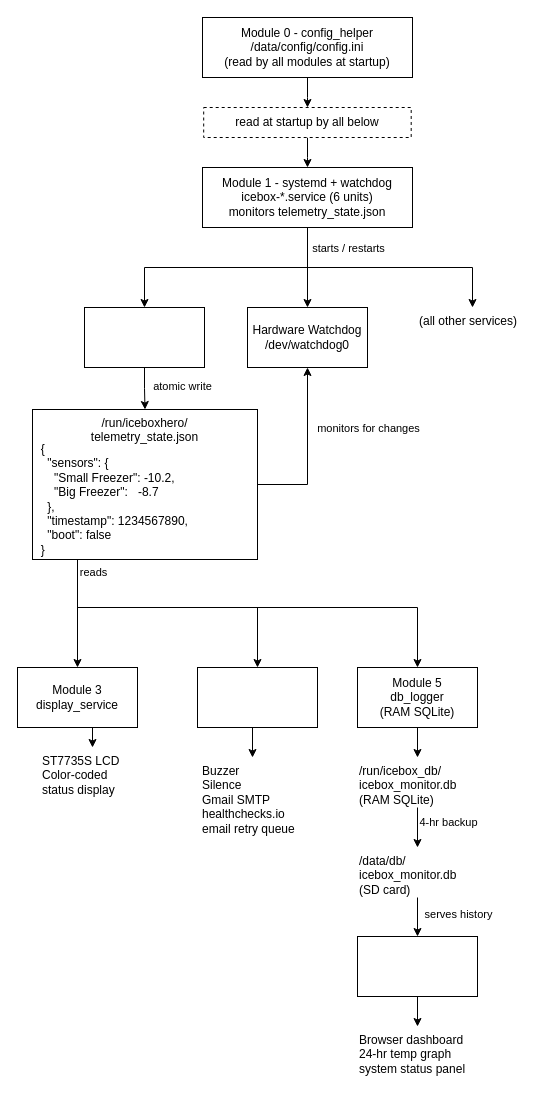
Image size: 545x1104. Some labels were removed from this diagram. The box of each missing label's shape, as (x1, y1, x2, y2) in pixels:
Module 2 sensor_service: (84, 306, 204, 368)
Module 4 alert_service: (196, 666, 318, 728)
Module 6 web_server Flask :8080: (356, 936, 478, 996)
